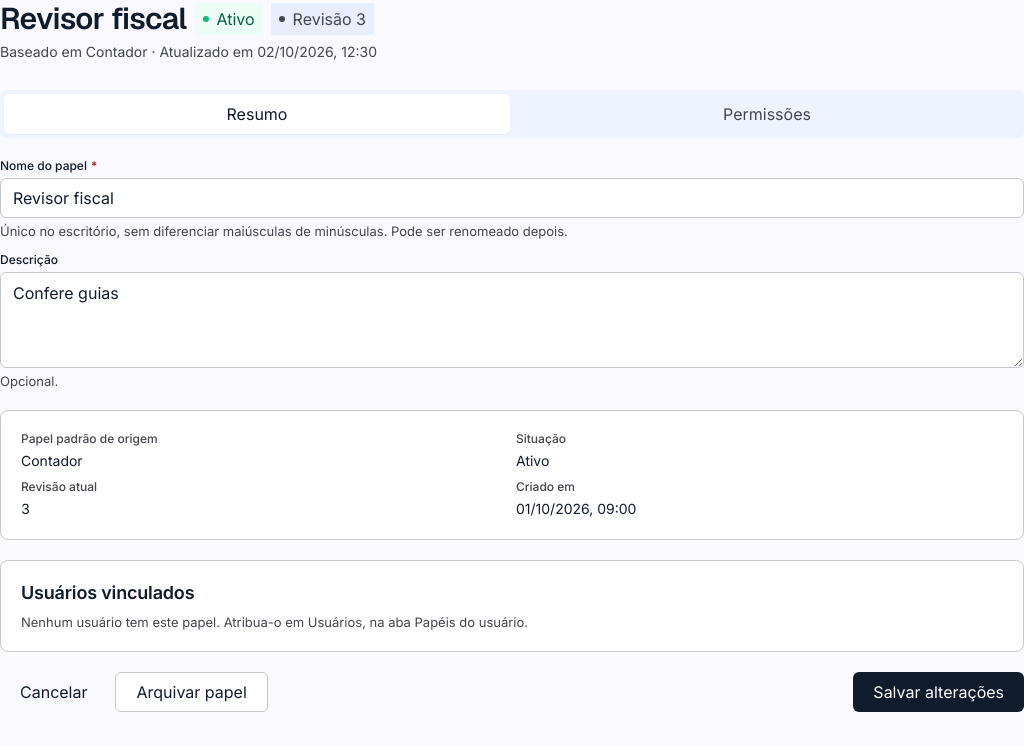
Test: salvar sem redução › mostra as alterações ainda não salvas, com adicionadas e retiradas
What coordinates should you click on to do the following:
click the tab "Permissões"
I would click on:
 (767, 114)
Its box is [514,94,1020,134].
(page scrolled)
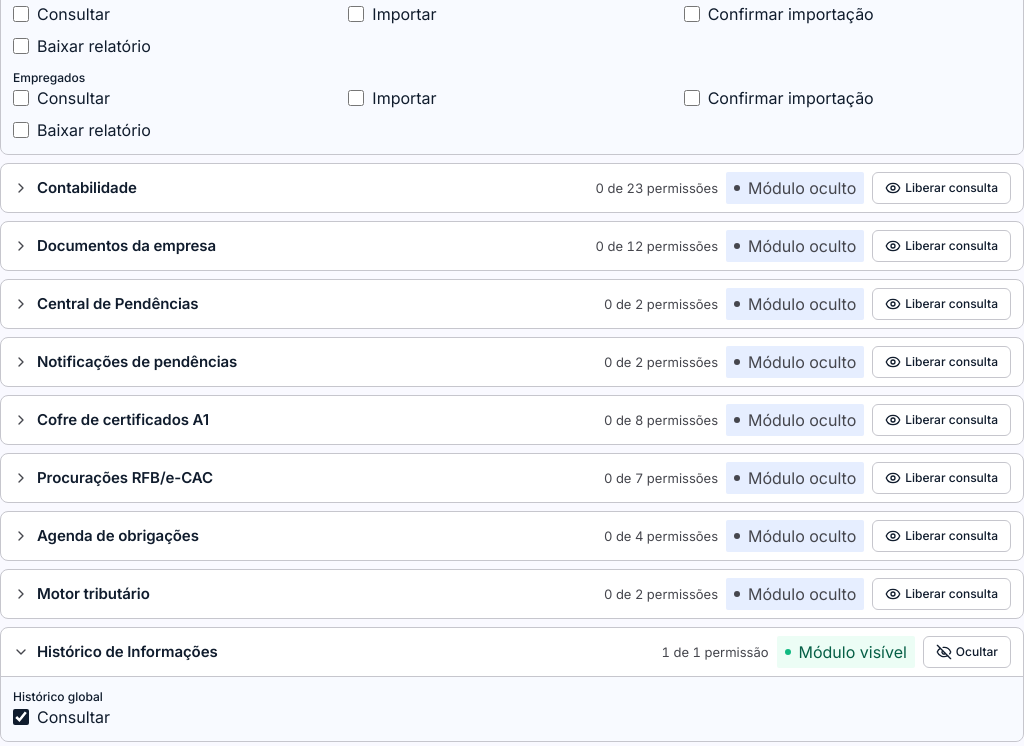
What coordinates should you click on to do the following:
click the button with aria-label "Liberar consulta em Notificações de pendências"
I would click on:
 (942, 362)
Its box is [872,346,1011,378].
(page scrolled)
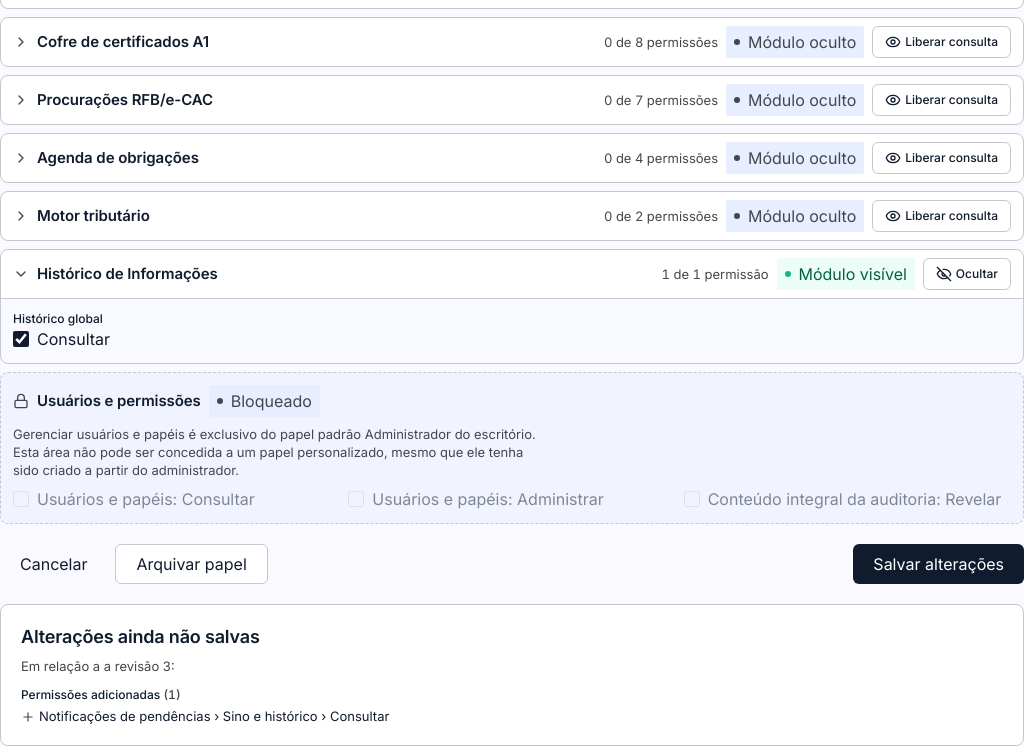
Expected: the heading "Alterações ainda não salvas" is shown, [21,626,260,647]
Expected: the text "Notificações de pendências › Sino e histórico › Consultar" is shown, [39,707,389,725]
Expected: the text "Em relação a a revisão 3:" is shown, [21,658,175,674]
